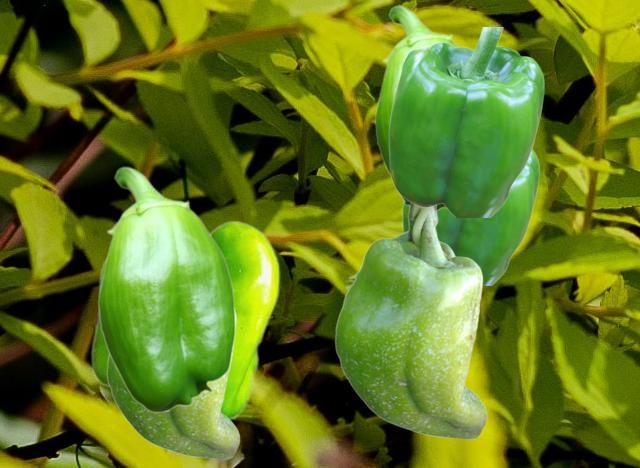bell_pepper: (90, 218, 279, 421), (334, 202, 486, 438), (97, 166, 235, 412), (388, 27, 543, 216), (106, 311, 239, 458), (402, 149, 538, 284), (374, 5, 459, 211)
